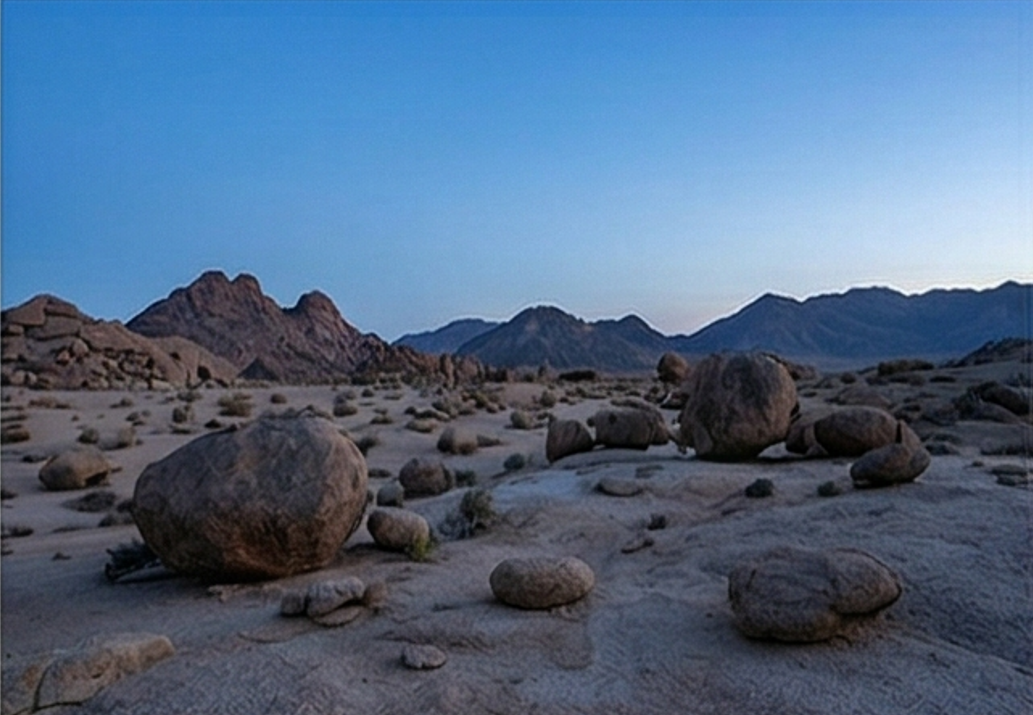rocks: (546, 354, 929, 485), (132, 415, 367, 579), (729, 547, 900, 641), (489, 556, 594, 608), (367, 485, 430, 552), (397, 457, 454, 500)
